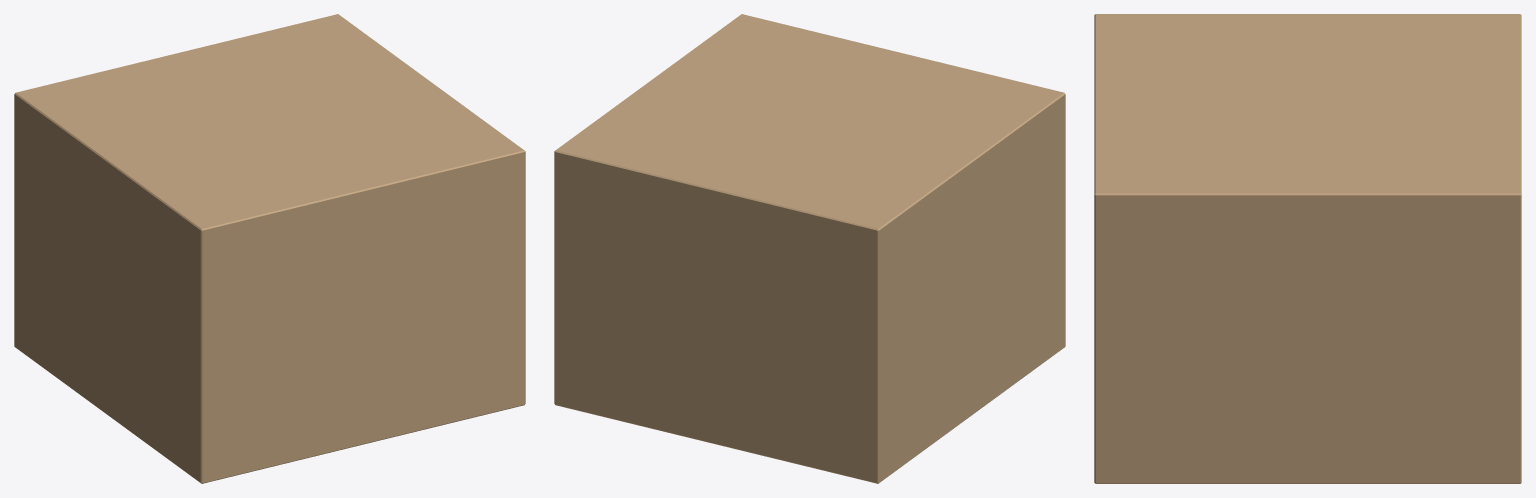
File: body.glb
3 views of the same model, side by side, from view 1: azimuth 30°, elevation 25°; view 2: azimuth 150°, elevation 25°; view 3: azimuth 270°, elevation 25° (orthographic). The views are drawn at different scales.
Visible parts, largest first — view 1: body; view 2: body; view 3: body.
Part boxes in pixels (x1,y1,x2,y2): body: (14,14,525,483); body: (554,14,1065,483); body: (1094,14,1521,483).
Bounding box in the file's own units: 0.6 × 0.45 × 0.6.
